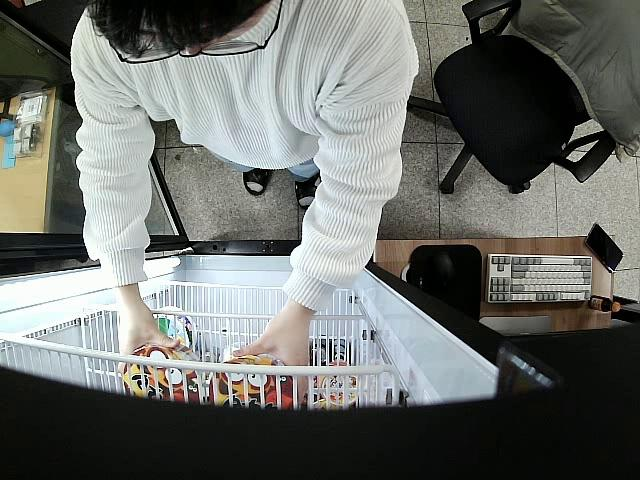00_hand: (230, 310, 311, 404), (117, 307, 183, 374)
05_nuguri_L: (206, 353, 294, 411), (124, 345, 205, 405)
